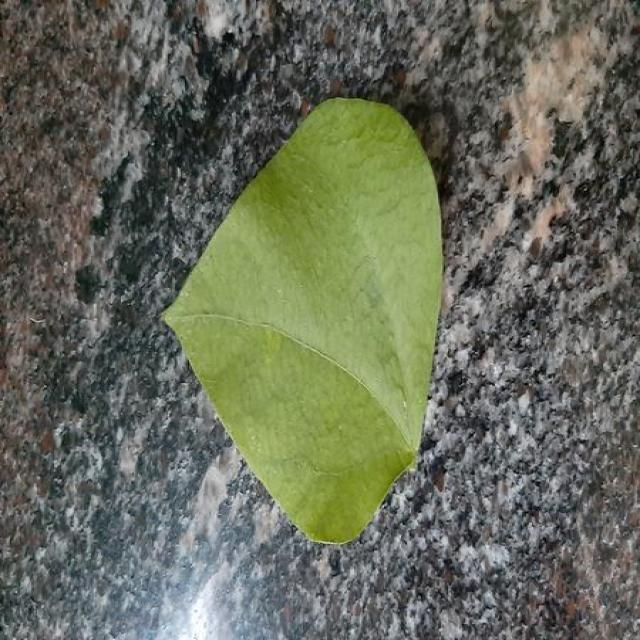beans: (163, 98, 443, 543)
